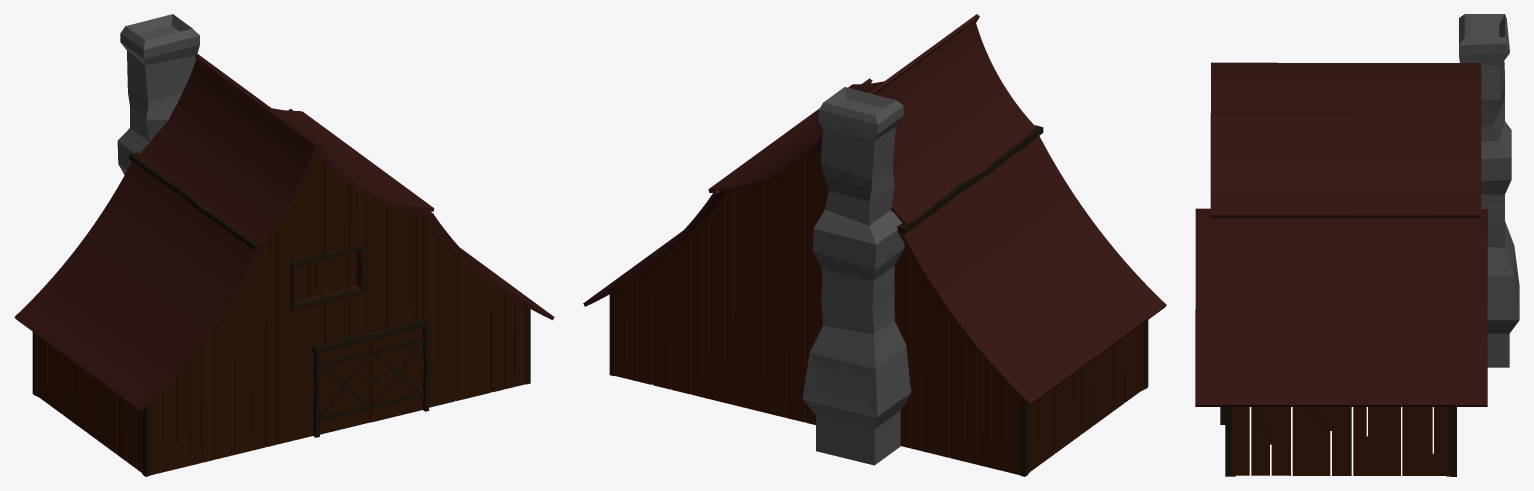
The model's file is barn_v1_textured_final.FBX.
The picture shows the model from 3 angles, left to right: view 1: azimuth 30°, elevation 25°; view 2: azimuth 150°, elevation 25°; view 3: azimuth 270°, elevation 25°; orthographic projection. The views are drawn at different scales.
Visible parts, largest first — view 1: Box005, Box004, Box037, Box006, Box010, Box003, Box015, Box014, Box002, Box034, Box035, Box011 (+2 smaller); view 2: Box005, Box004, Box006, Box037, Box010, Box003, Box002, Box035, Box027; view 3: Box002, Box003, Box009, Box006, Box005, Box029, Box028.
Part boxes in pixels (box(x1,y1,x2,y2)): Box005: box(36, 151, 525, 475); Box004: box(14, 161, 261, 410); Box037: box(137, 59, 316, 243); Box006: box(117, 14, 199, 174); Box010: box(38, 336, 141, 472); Box003: box(195, 54, 434, 211); Box015: box(370, 327, 423, 422); Box014: box(319, 340, 369, 434); Box002: box(288, 108, 554, 320); Box034: box(262, 166, 310, 243); Box035: box(129, 152, 262, 250); Box011: box(312, 317, 429, 353); Box005: box(614, 147, 1143, 474); Box004: box(899, 136, 1166, 406); Box006: box(802, 87, 911, 465); Box037: box(875, 21, 1035, 224); Box010: box(1029, 325, 1141, 471); Box003: box(708, 14, 979, 192); Box002: box(583, 78, 872, 306); Box035: box(897, 125, 1043, 234); Box027: box(1020, 399, 1028, 476); Box002: box(1195, 208, 1487, 406); Box003: box(1210, 62, 1481, 218); Box009: box(1235, 407, 1446, 475); Box006: box(1459, 14, 1519, 367); Box005: box(1231, 407, 1450, 476); Box029: box(1225, 407, 1231, 476); Box028: box(1451, 407, 1456, 476).
Size of the model in its own units: 159 by 121 by 108.
